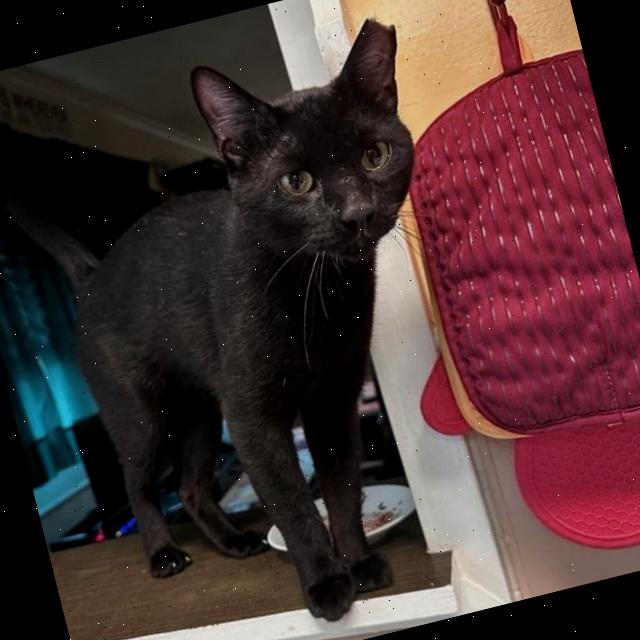bombay_cat: (176, 6, 454, 301)
